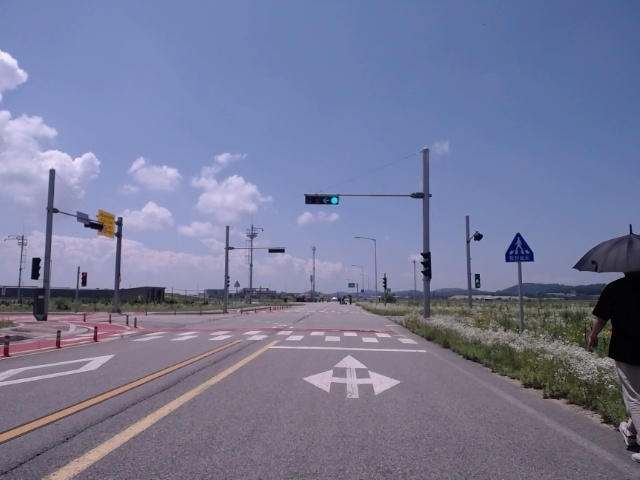all_green_4: (304, 194, 338, 204)
